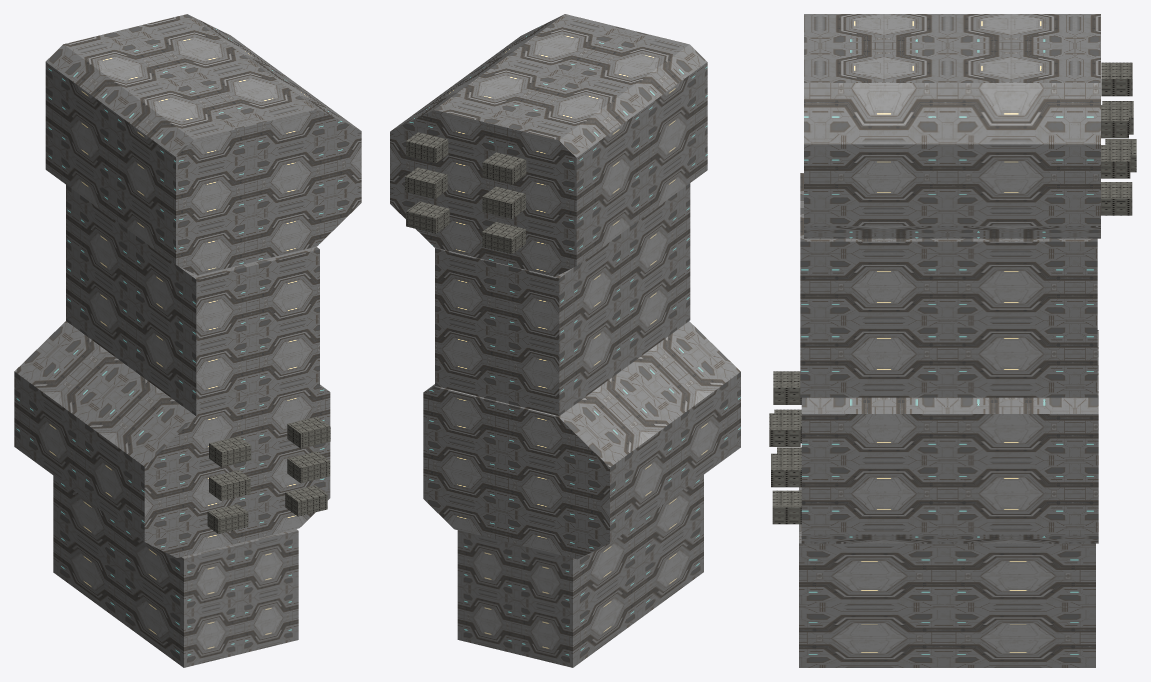
Rendered from predio1.glb.
The picture shows the model from 3 angles, left to right: view 1: azimuth 30°, elevation 25°; view 2: azimuth 150°, elevation 25°; view 3: azimuth 270°, elevation 25°; orthographic projection. The views are drawn at different scales.
Visible parts, largest first — view 1: Cubo, Cube, Cubo.003; view 2: Cubo, Cube, Cubo.003; view 3: Cubo, Cube, Cubo.003.
Boxes of the visible parts, left/top/right/bottom form: Cubo: left=14, top=14, right=361, bottom=557; Cube: left=53, top=475, right=298, bottom=667; Cubo.003: left=207, top=416, right=330, bottom=533; Cubo: left=390, top=14, right=740, bottom=559; Cube: left=457, top=475, right=703, bottom=667; Cubo.003: left=405, top=132, right=526, bottom=253; Cubo: left=800, top=14, right=1100, bottom=543; Cube: left=799, top=487, right=1095, bottom=667; Cubo.003: left=769, top=62, right=1136, bottom=524.
Size of the model in its own units: 38.57 by 88.65 by 49.41.
Materials: 2 (2 with a texture image).
